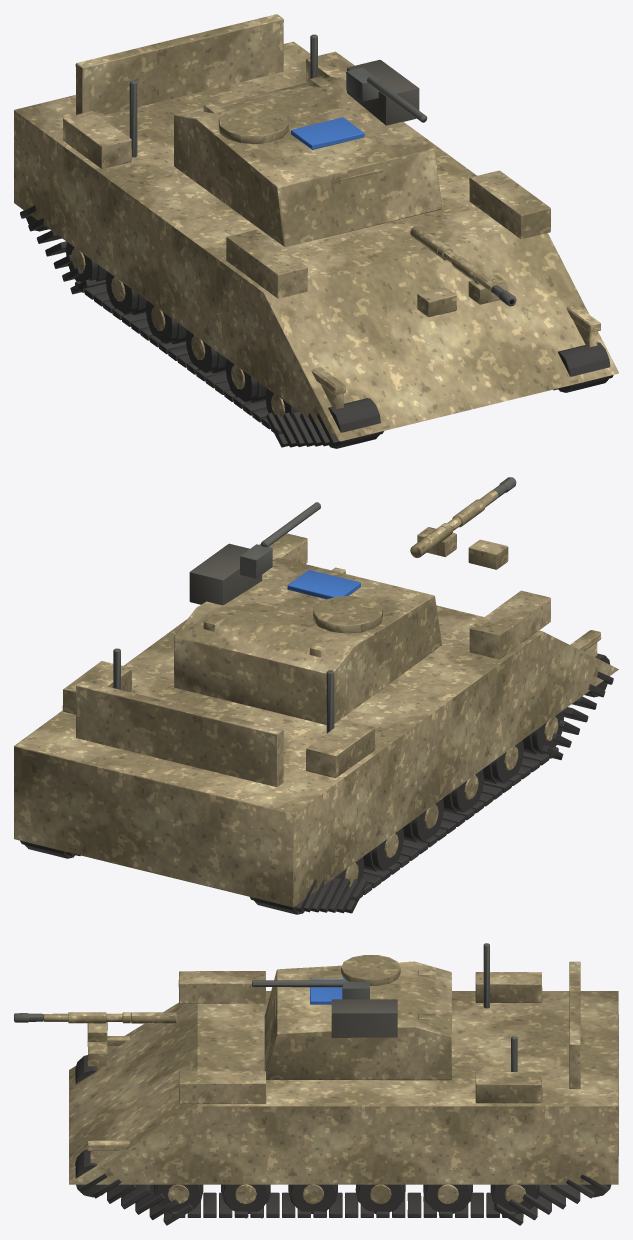
File: afv_e4_us_ifv_LOD1.glb
The picture shows the model from 3 angles, top to bottom: view 1: azimuth 30°, elevation 25°; view 2: azimuth 150°, elevation 25°; view 3: azimuth 270°, elevation 25°; orthographic projection. The views are drawn at different scales.
Parts seen in each view (by area): view 1: afv_e4_us_ifv_LOD1_body, afv_e4_us_ifv_LOD1_track, afv_e4_us_ifv_LOD1_gun, afv_e4_us_ifv_LOD1_deck, afv_e4_us_ifv_LOD1_team; view 2: afv_e4_us_ifv_LOD1_body, afv_e4_us_ifv_LOD1_track, afv_e4_us_ifv_LOD1_deck, afv_e4_us_ifv_LOD1_gun, afv_e4_us_ifv_LOD1_team; view 3: afv_e4_us_ifv_LOD1_body, afv_e4_us_ifv_LOD1_track, afv_e4_us_ifv_LOD1_deck, afv_e4_us_ifv_LOD1_gun, afv_e4_us_ifv_LOD1_team.
Part boxes in pixels (x1=…): afv_e4_us_ifv_LOD1_body: x1=14, y1=14, x2=618, y2=441; afv_e4_us_ifv_LOD1_track: x1=20, y1=205, x2=613, y2=448; afv_e4_us_ifv_LOD1_gun: x1=129, y1=34, x2=516, y2=306; afv_e4_us_ifv_LOD1_deck: x1=347, y1=59, x2=419, y2=125; afv_e4_us_ifv_LOD1_team: x1=291, y1=117, x2=364, y2=149; afv_e4_us_ifv_LOD1_body: x1=14, y1=490, x2=618, y2=907; afv_e4_us_ifv_LOD1_track: x1=20, y1=653, x2=613, y2=914; afv_e4_us_ifv_LOD1_deck: x1=189, y1=543, x2=261, y2=605; afv_e4_us_ifv_LOD1_gun: x1=113, y1=477, x2=516, y2=733; afv_e4_us_ifv_LOD1_team: x1=287, y1=570, x2=360, y2=599; afv_e4_us_ifv_LOD1_body: x1=43, y1=955, x2=618, y2=1204; afv_e4_us_ifv_LOD1_track: x1=75, y1=1055, x2=611, y2=1225; afv_e4_us_ifv_LOD1_deck: x1=331, y1=999, x2=397, y2=1037; afv_e4_us_ifv_LOD1_gun: x1=14, y1=943, x2=517, y2=1071; afv_e4_us_ifv_LOD1_team: x1=310, y1=979, x2=346, y2=1004.
Size of the model in its own units: 3.28 by 2.77 by 7.25.
Materials: 6 (1 with a texture image).
